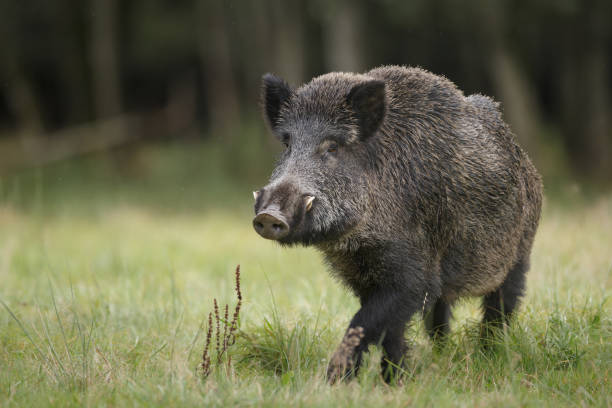pig: (253, 73, 543, 368)
